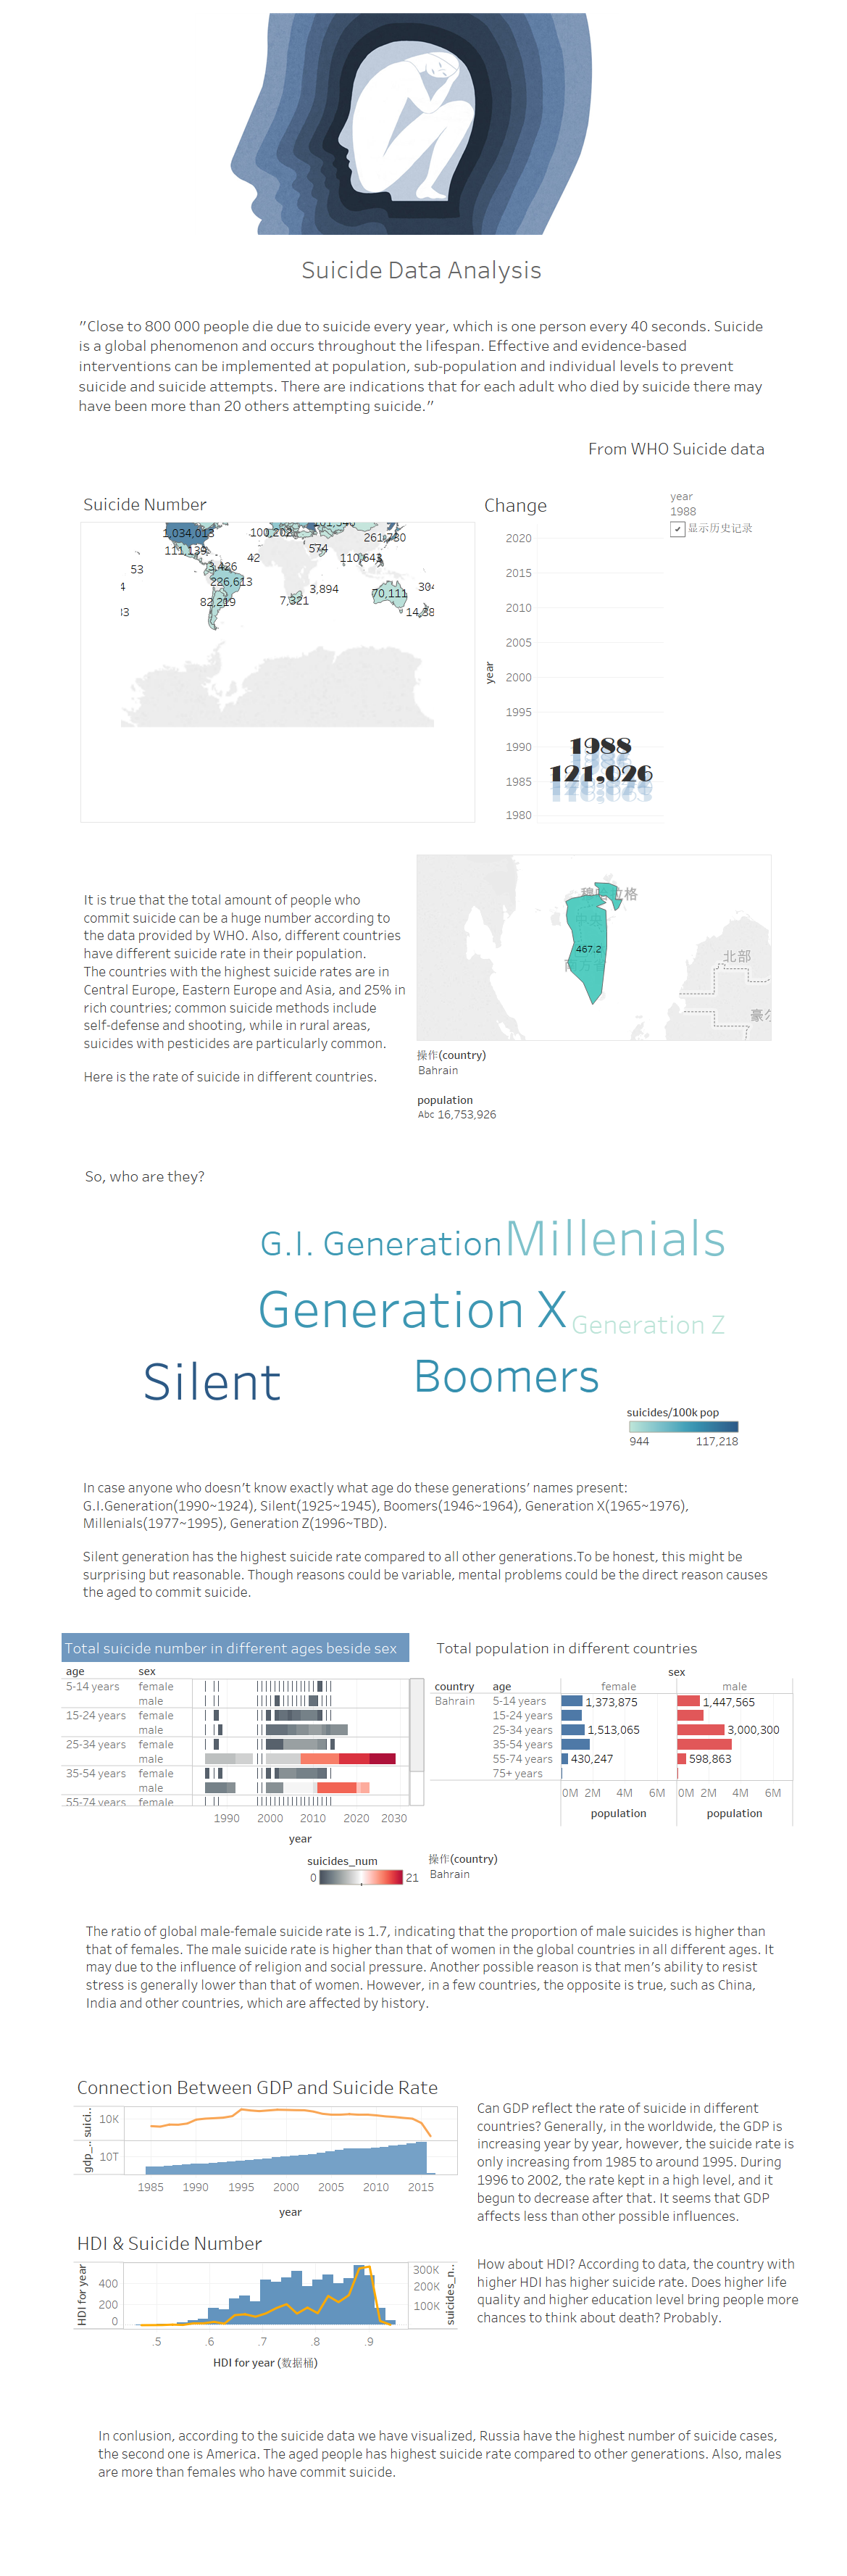

The page's visual inventory and layout, read from the dashboard file:
{"tool":"tableau","page":{"name":"FINAL","canvas":[1169,3554],"ordinal":0},"visuals":[{"type":"image","param":"C:/Users/73/Documents/28barnhorst-facebookJumbo.jpg","box":[269,21,585,334]},{"type":"text","box":[101,341,962,80]},{"type":"text","box":[101,421,962,188]},{"type":"text","box":[101,609,962,39]},{"type":"worksheet","title":"map","mark":"Automatic","box":[107,669,553,470]},{"type":"worksheet","title":"number","mark":"Text","rows":["year"],"box":[660,669,261,470]},{"type":"currpage","title":"number","box":[921,669,125,470]},{"type":"text","box":[108,1171,459,385]},{"type":"worksheet","title":"rate","mark":"Multipolygon","box":[571,1175,498,265]},{"type":"filter","title":"rate","param":"[federated.0zam8ct0y6qao9184zir90chf4zw].[Action (country)]","box":[571,1440,498,61]},{"type":"legend","title":"rate","param":"[federated.0zam8ct0y6qao9184zir90chf4zw].[sum:population:qk]","box":[571,1501,498,51]},{"type":"text","box":[114,1593,955,59]},{"type":"worksheet","title":"Generation","mark":"Text","box":[196,1649,810,309]},{"type":"legend","title":"Generation","param":"[federated.0zam8ct0y6qao9184zir90chf4zw].[sum:suicides/100k pop:qk]","box":[865,1934,159,83]},{"type":"text","box":[111,2039,971,171]},{"type":"worksheet","title":"sex","mark":"GanttBar","rows":["age","sex"],"cols":["year"],"box":[96,2249,501.5,310]},{"type":"worksheet","title":"population","mark":"Automatic","rows":["country","age"],"cols":["sex","population"],"box":[597.5,2249,501.5,310]},{"type":"legend","title":"sex","param":"[federated.0zam8ct0y6qao9184zir90chf4zw].[sum:suicides_no:qk]","box":[420,2549,167,75]},{"type":"filter","title":"population","param":"[federated.0zam8ct0y6qao9184zir90chf4zw].[Action (country)]","box":[587,2549,168,75]},{"type":"text","box":[115,2632,977,163]},{"type":"worksheet","title":"GDP","mark":"Line","rows":["suicides/100k pop","gdp_for_year ($) "],"cols":["year"],"box":[98,2852,538,215]},{"type":"text","box":[655,2863,460,381]},{"type":"worksheet","title":"HDI","mark":"Automatic","rows":["HDI for year","suicides_no"],"cols":["HDI for year (数据桶)"],"box":[98,3067,538,215]},{"type":"text","box":[113,3327,972,116]}]}

Visuals, with their boxes in screenshot pixels (x1, y1, x2, y2), scaled from the page's 1169x3554 canvas onto the 847x2576 screenshot:
image: bbox(195, 15, 619, 257)
text: bbox(73, 247, 770, 305)
text: bbox(73, 305, 770, 441)
text: bbox(73, 441, 770, 470)
"map" worksheet: bbox(78, 485, 478, 826)
"number" worksheet (Text marks): bbox(478, 485, 667, 826)
"number" currpage: bbox(667, 485, 758, 826)
text: bbox(78, 849, 411, 1128)
"rate" worksheet (Multipolygon marks): bbox(414, 852, 775, 1044)
"rate" filter: bbox(414, 1044, 775, 1088)
"rate" legend: bbox(414, 1088, 775, 1125)
text: bbox(83, 1155, 775, 1197)
"Generation" worksheet (Text marks): bbox(142, 1195, 729, 1419)
"Generation" legend: bbox(627, 1402, 742, 1462)
text: bbox(80, 1478, 784, 1602)
"sex" worksheet (GanttBar marks): bbox(70, 1630, 433, 1855)
"population" worksheet: bbox(433, 1630, 796, 1855)
"sex" legend: bbox(304, 1848, 425, 1902)
"population" filter: bbox(425, 1848, 547, 1902)
text: bbox(83, 1908, 791, 2026)
"GDP" worksheet (Line marks): bbox(71, 2067, 461, 2223)
text: bbox(475, 2075, 808, 2351)
"HDI" worksheet: bbox(71, 2223, 461, 2379)
text: bbox(82, 2411, 786, 2496)
